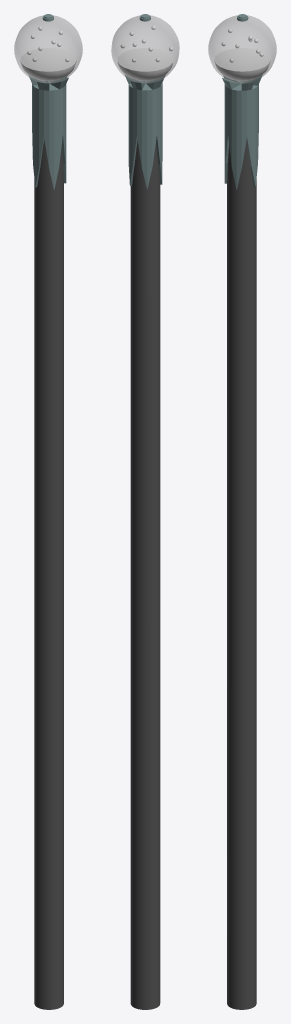
The model's file is Snowglobe Staff.fbx.
3 renders of one model, left to right at view 1: azimuth 90°, elevation 25°; view 2: azimuth 150°, elevation 25°; view 3: azimuth 270°, elevation 25°, orthographic.
Visible parts, largest first — view 1: pCylinder4, pSphere1, pasted__pSphere1; view 2: pCylinder4, pSphere1, pasted__pSphere1; view 3: pCylinder4, pSphere1, pasted__pSphere1.
Part boxes in pixels (x1,y1,x2,y2): pCylinder4: (28, 75, 68, 1009); pSphere1: (14, 15, 82, 83); pasted__pSphere1: (20, 48, 76, 81); pCylinder4: (125, 75, 165, 1009); pSphere1: (111, 15, 179, 83); pasted__pSphere1: (117, 48, 173, 81); pCylinder4: (222, 75, 262, 1009); pSphere1: (208, 15, 276, 83); pasted__pSphere1: (214, 48, 270, 80).
Size of the model in its own units: 0.5881 by 9.32 by 0.5881.
